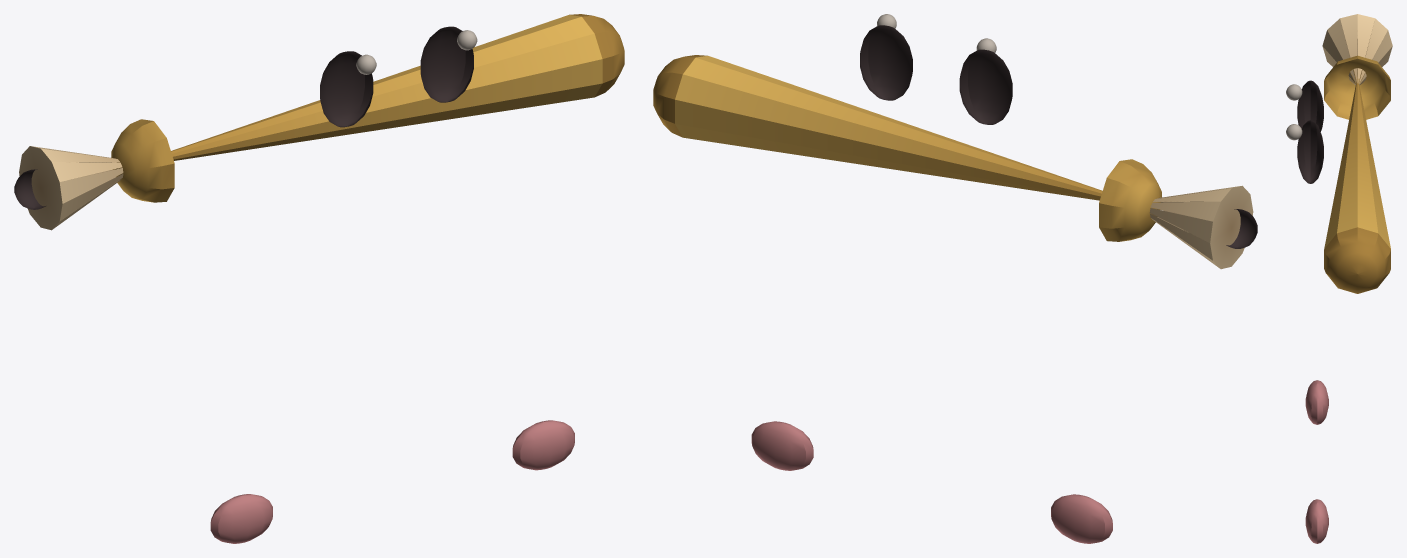
3 renders of one model, left to right at view 1: azimuth 30°, elevation 25°; view 2: azimuth 150°, elevation 25°; view 3: azimuth 270°, elevation 25°, orthographic. The views are drawn at different scales.
Visible parts, largest first — view 1: pet_p02665715; view 2: pet_p02665715; view 3: pet_p02665715.
Part boxes in pixels (box(x1,y1,x2,y2)): pet_p02665715: box(14, 14, 624, 543); pet_p02665715: box(653, 14, 1257, 543); pet_p02665715: box(1286, 14, 1392, 543).
Size of the model in its own units: 0.4788 by 0.357 by 0.0909.
